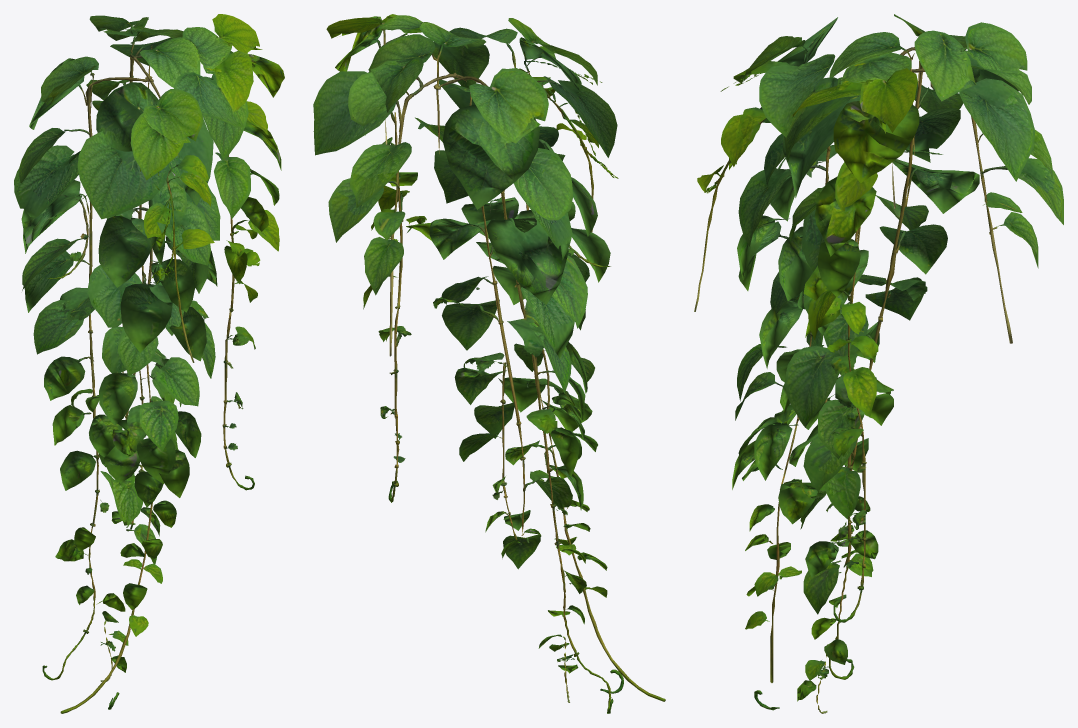
The model's file is Vine with branch 3d model free.glb.
3 views of the same model, side by side, from view 1: azimuth 30°, elevation 25°; view 2: azimuth 150°, elevation 25°; view 3: azimuth 270°, elevation 25° (orthographic). The views are drawn at different scales.
Parts seen in each view (by area): view 1: Model; view 2: Model; view 3: Model.
Part boxes in pixels (box(x1,y1,x2,y2)): Model: box(14, 14, 284, 713); Model: box(313, 14, 665, 713); Model: box(694, 14, 1063, 713).
Bounding box in the file's own units: 0.4305 × 1 × 0.456.
Materials: 1 (1 with a texture image).
